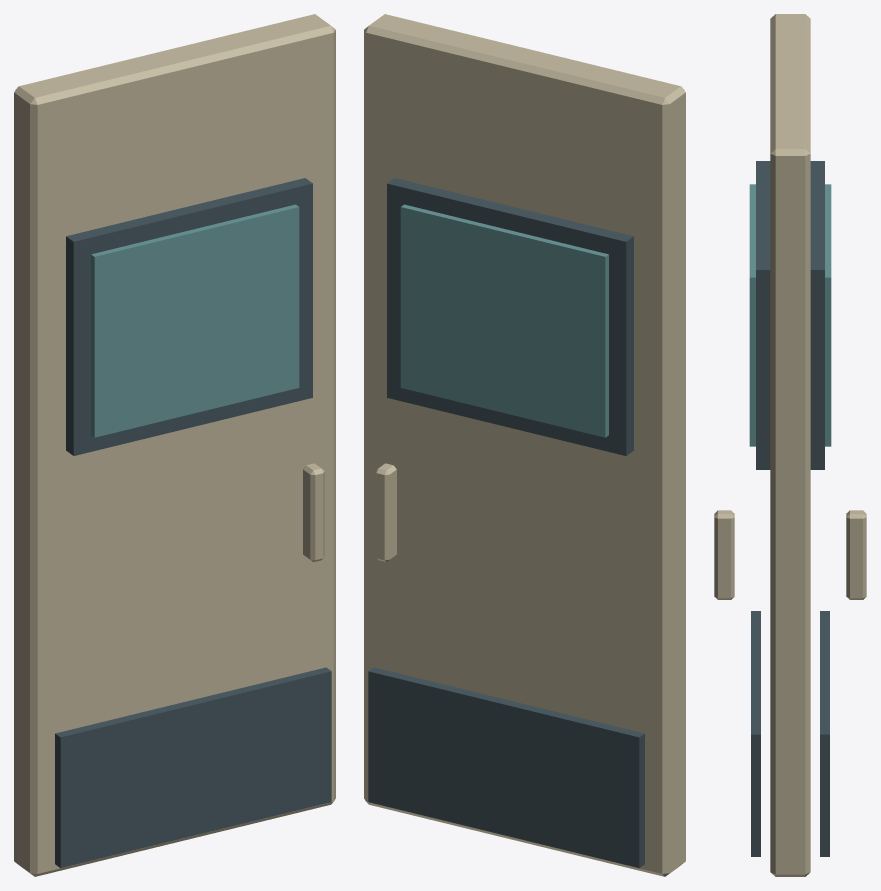
Rendered from door_hospital_swing.glb.
The picture shows the model from 3 angles, left to right: view 1: azimuth 30°, elevation 25°; view 2: azimuth 150°, elevation 25°; view 3: azimuth 270°, elevation 25°; orthographic projection. The views are drawn at different scales.
Visible parts, largest first — view 1: door_hospital_swing; view 2: door_hospital_swing; view 3: door_hospital_swing.
Boxes of the visible parts, x1=… form: door_hospital_swing: x1=14, y1=14, x2=335, y2=876; door_hospital_swing: x1=364, y1=14, x2=685, y2=876; door_hospital_swing: x1=714, y1=14, x2=866, y2=876.
Size of the model in its own units: 1.15 by 2.8 by 0.53.
